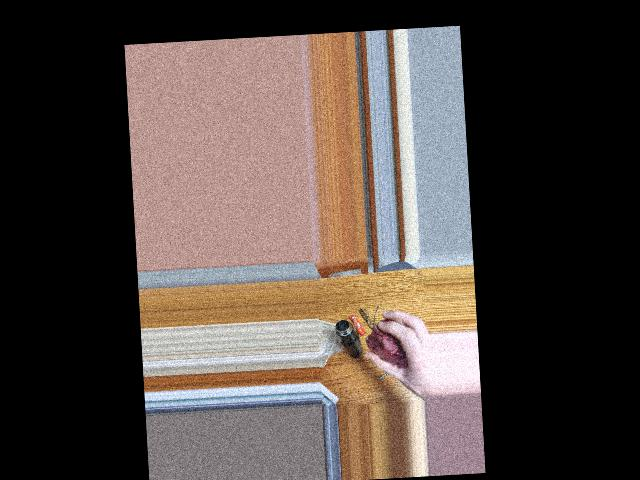onion: (369, 321, 409, 370)
